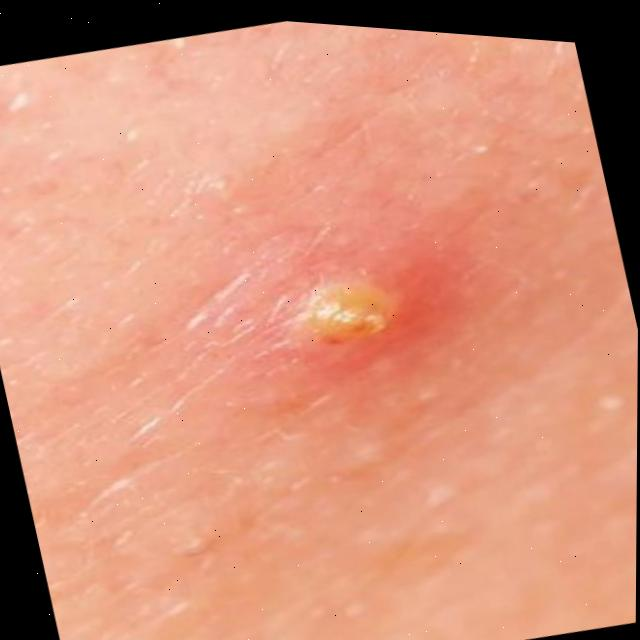Acne: (290, 257, 364, 327)
